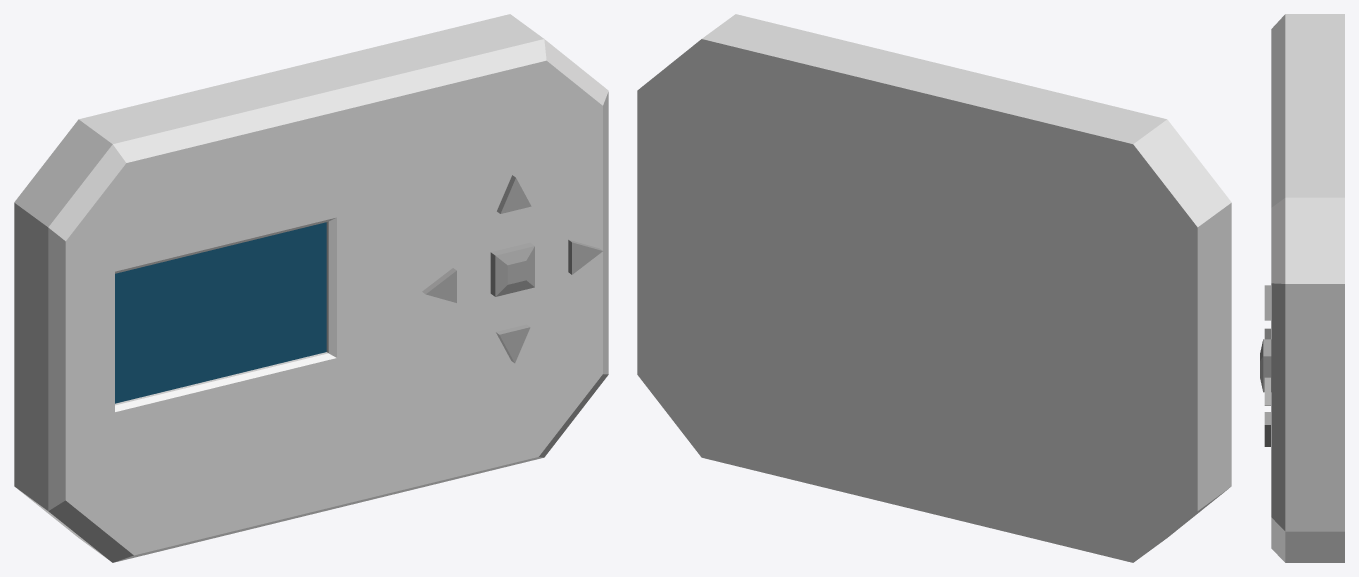
The model's file is Thermostat.fbx.
The picture shows the model from 3 angles, left to right: view 1: azimuth 30°, elevation 25°; view 2: azimuth 150°, elevation 25°; view 3: azimuth 270°, elevation 25°; orthographic projection. The views are drawn at different scales.
Parts seen in each view (by area): view 1: Thermostat; view 2: Thermostat; view 3: Thermostat.
Boxes of the visible parts, x1=… form: Thermostat: x1=14, y1=14, x2=608, y2=562; Thermostat: x1=637, y1=14, x2=1231, y2=562; Thermostat: x1=1260, y1=14, x2=1344, y2=562.
Size of the model in its own units: 23.85 by 17.02 by 3.58.
